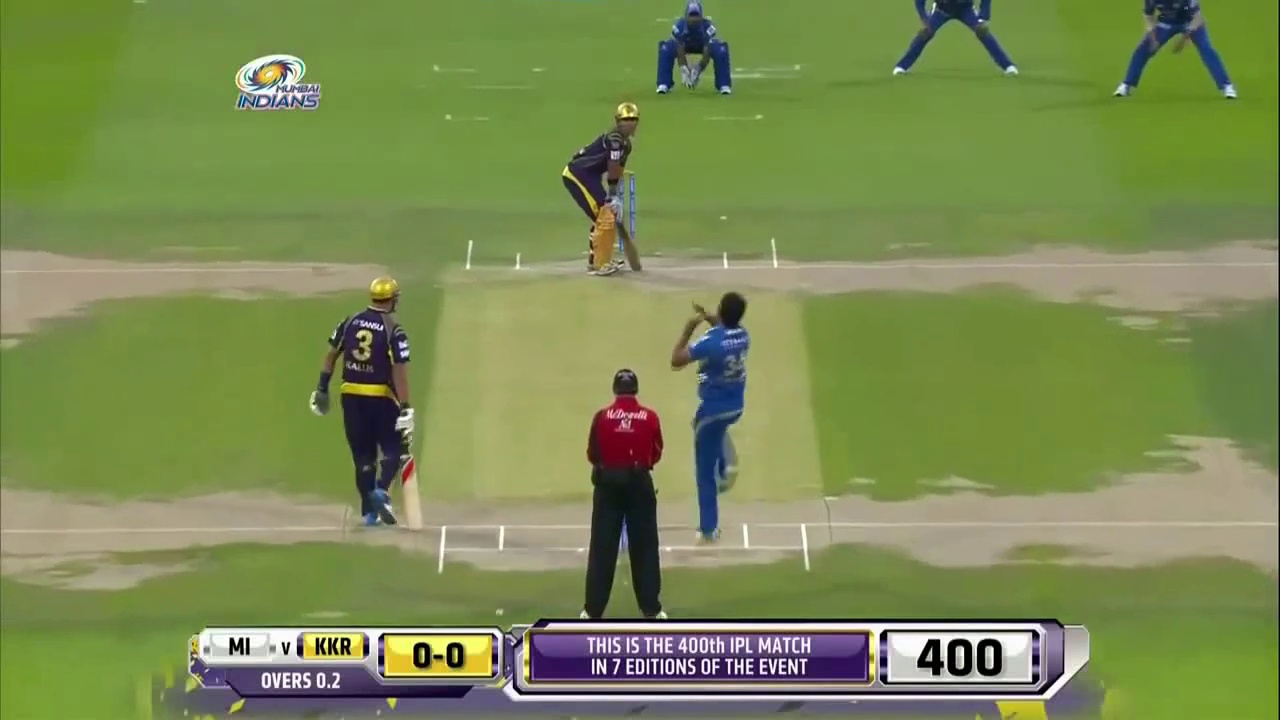bat: (399, 445, 424, 531), (618, 223, 642, 272)
